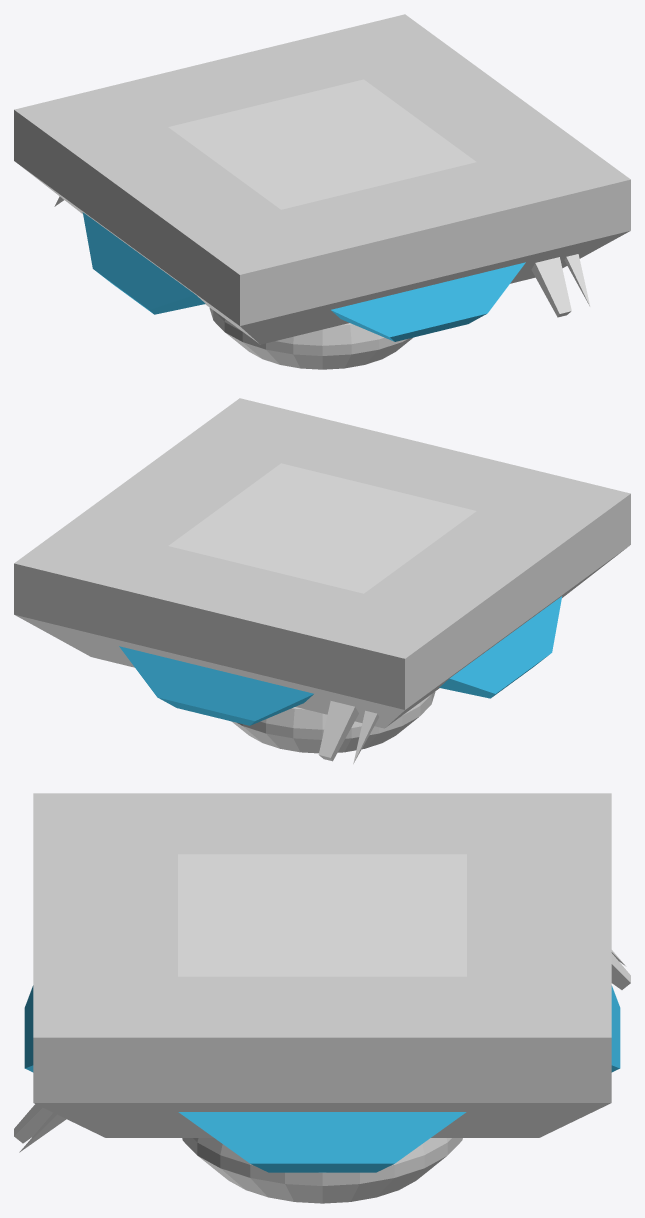
Rendered from Chroma Floating Platform.fbx.
3 views of the same model, one above another, from view 1: azimuth 30°, elevation 25°; view 2: azimuth 150°, elevation 25°; view 3: azimuth 270°, elevation 25° (orthographic). The views are drawn at different scales.
Visible parts, largest first — view 1: Cube; view 2: Cube; view 3: Cube.
Boxes of the visible parts, x1,y1,x2,y2 form: Cube: (14,14,630,369); Cube: (14,398,630,763); Cube: (14,793,630,1203).
Size of the model in its own units: 412 by 200 by 427.
